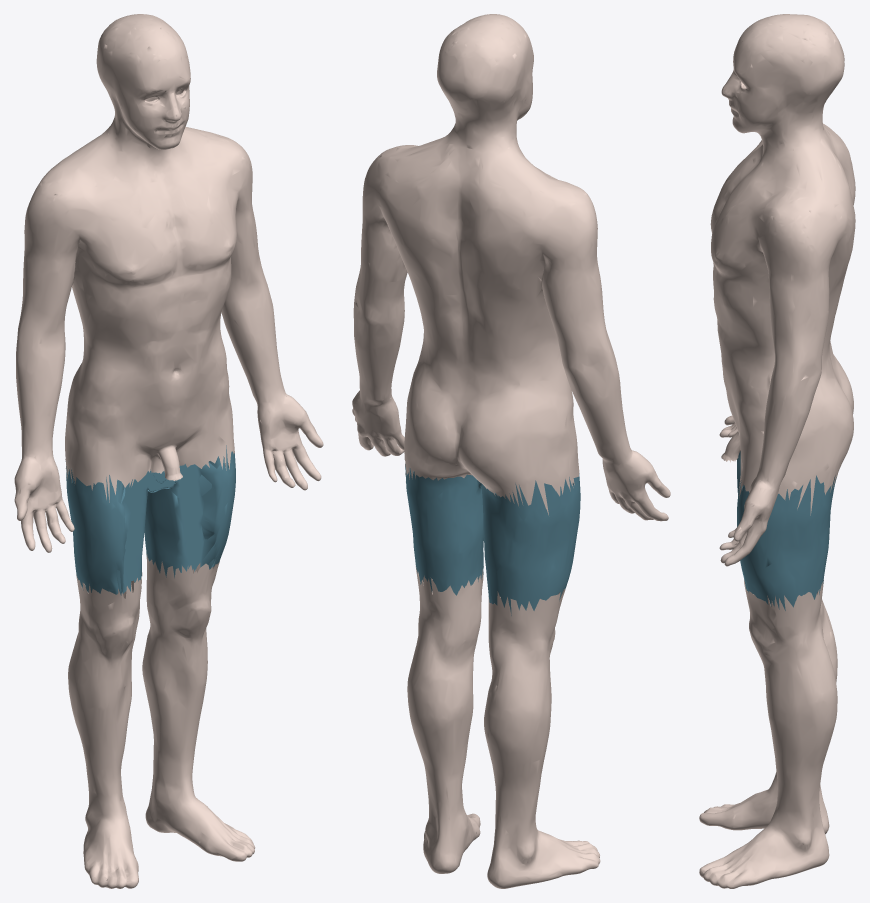
The model's file is muscle-additions.glb.
The picture shows the model from 3 angles, left to right: view 1: azimuth 30°, elevation 25°; view 2: azimuth 150°, elevation 25°; view 3: azimuth 270°, elevation 25°; orthographic projection. The views are drawn at different scales.
Parts seen in each view (by area): view 1: Silhouette clean 1, Sports shorts 1; view 2: Silhouette clean 1, Sports shorts 1; view 3: Silhouette clean 1, Sports shorts 1.
Boxes of the visible parts, box(x1,y1,x2,y2) form: Silhouette clean 1: box(14, 14, 323, 888); Sports shorts 1: box(65, 445, 235, 595); Silhouette clean 1: box(352, 14, 670, 888); Sports shorts 1: box(405, 464, 580, 615); Silhouette clean 1: box(699, 14, 855, 888); Sports shorts 1: box(737, 451, 836, 610).
Size of the model in its own units: 1.33 by 3.44 by 0.5839.
